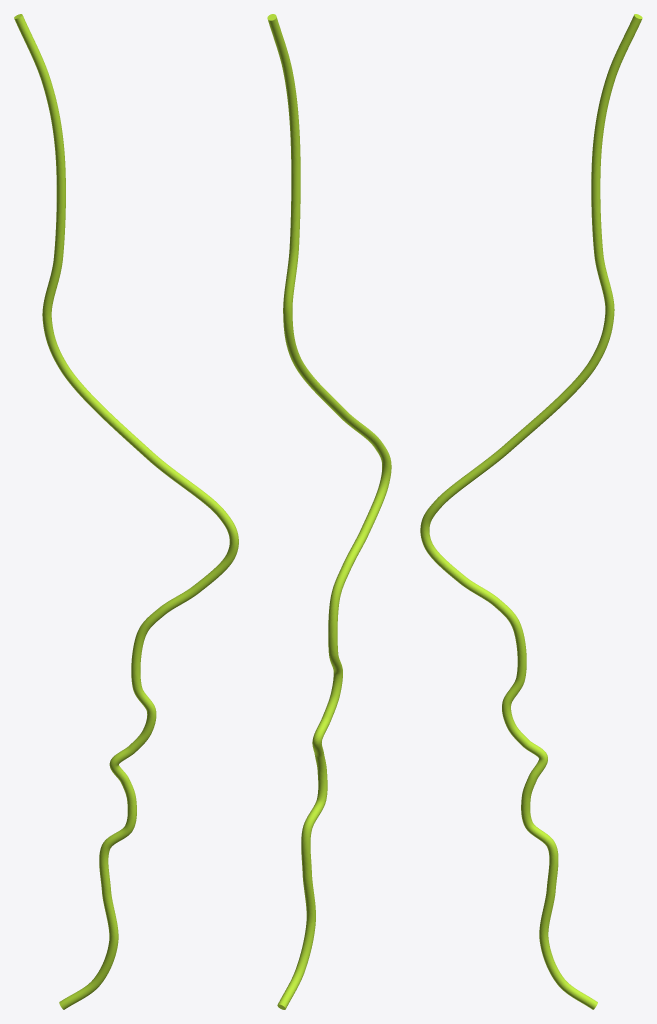
File: faces12 - lineprofile.glb
3 renders of one model, left to right at view 1: azimuth 90°, elevation 25°; view 2: azimuth 150°, elevation 25°; view 3: azimuth 270°, elevation 25°, orthographic. The views are drawn at different scales.
Visible parts, largest first — view 1: Tube; view 2: Tube; view 3: Tube.
Boxes of the visible parts, x1=… form: Tube: x1=14, y1=14, x2=238, y2=1009; Tube: x1=267, y1=14, x2=391, y2=1009; Tube: x1=420, y1=14, x2=642, y2=1009.
Bounding box in the file's own units: 0.0352 × 1.31 × 0.2676.
